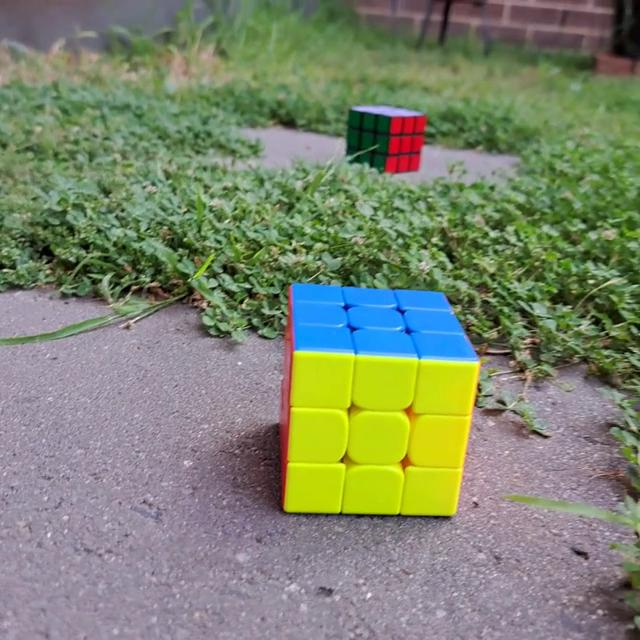rubix_cube: (272, 280, 484, 523), (344, 102, 431, 175)
